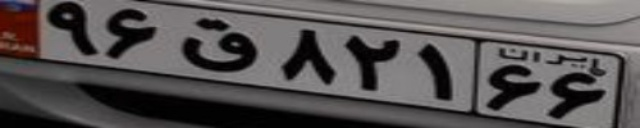1: (413, 41, 451, 102)
2: (341, 35, 401, 92)
6: (542, 71, 605, 121), (101, 7, 156, 58), (481, 63, 540, 109)
8: (278, 28, 334, 85)
9: (44, 1, 97, 56)
ghaf: (178, 16, 256, 74)
